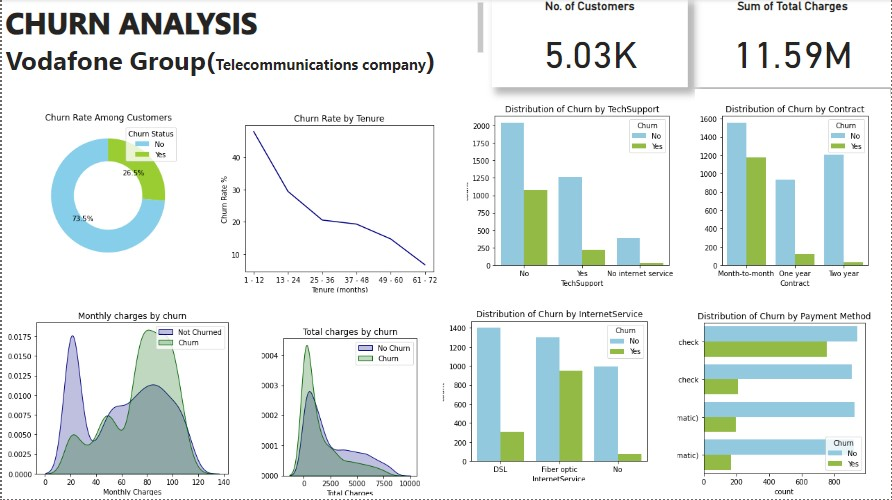

The dashboard page shown, as its layout file describes it:
{"tool":"powerbi","page":{"name":"Churn Analysis","canvas":[1280,720],"ordinal":0},"visuals":[{"type":"pythonVisual","fields":{"Values":["dataset.Churn"]},"box":[0,144.3,298.6,276.8],"z":0},{"type":"pythonVisual","fields":{"Values":["Sum(dataset.MonthlyCharges)","dataset.Churn"]},"box":[0,427.3,365.9,292.7],"z":1000},{"type":"pythonVisual","fields":{"Values":["dataset.Churn","Sum(dataset.TotalCharges)"]},"box":[368.8,453.7,257.6,266.3],"z":2000},{"type":"pythonVisual","fields":{"Values":["dataset.Churn","dataset.tenure_group"]},"box":[301.5,143.4,360,283.9],"z":3000},{"type":"card","title":"Sum of Total Charges","fields":{"Values":["Sum(dataset.TotalCharges)"]},"box":[996.5,0,283.5,127.5],"z":4000},{"type":"pythonVisual","fields":{"Values":["dataset.SeniorCitizen","CountNonNull(dataset.Churn)"]},"box":[663.4,130.2,333.7,289.8],"z":5000},{"type":"pythonVisual","fields":{"Values":["dataset.Churn","dataset.PaymentMethod"]},"box":[968,427.8,310.4,291.9],"z":6000},{"type":"card","title":"No. of Customers","fields":{"Values":["CountNonNull(dataset.Churn)"]},"box":[706.3,0,281.8,127.5],"z":7000},{"type":"pythonVisual","fields":{"Values":["dataset.Contract","CountNonNull(dataset.Churn)","dataset.Churn"]},"box":[998,130.2,281,289.8],"z":8000},{"type":"pythonVisual","fields":{"Values":["dataset.InternetService","dataset.Churn","CountNonNull(dataset.Churn)"]},"box":[629.1,427.8,337.2,271.8],"z":9000},{"type":"textbox","box":[0,0,697.9,127.5],"z":10000}]}

Visuals, with their boxes in screenshot pixels (x1, y1, x2, y2), scaled from the page's 1280x720 canvas onto the 892x500 screenshot:
pythonVisual - dataset.Churn: {"x1": 0, "y1": 100, "x2": 208, "y2": 292}
pythonVisual - Sum(dataset.MonthlyCharges) x dataset.Churn: {"x1": 0, "y1": 297, "x2": 255, "y2": 499}
pythonVisual - dataset.Churn x Sum(dataset.TotalCharges): {"x1": 257, "y1": 315, "x2": 437, "y2": 499}
pythonVisual - dataset.Churn x dataset.tenure_group: {"x1": 210, "y1": 100, "x2": 461, "y2": 297}
"Sum of Total Charges" card: {"x1": 694, "y1": 0, "x2": 891, "y2": 89}
pythonVisual - dataset.SeniorCitizen x CountNonNull(dataset.Churn): {"x1": 462, "y1": 90, "x2": 695, "y2": 292}
pythonVisual - dataset.Churn x dataset.PaymentMethod: {"x1": 675, "y1": 297, "x2": 891, "y2": 499}
"No. of Customers" card: {"x1": 492, "y1": 0, "x2": 689, "y2": 89}
pythonVisual - dataset.Contract x CountNonNull(dataset.Churn): {"x1": 695, "y1": 90, "x2": 891, "y2": 292}
pythonVisual - dataset.InternetService x dataset.Churn: {"x1": 438, "y1": 297, "x2": 673, "y2": 486}
textbox: {"x1": 0, "y1": 0, "x2": 486, "y2": 89}
